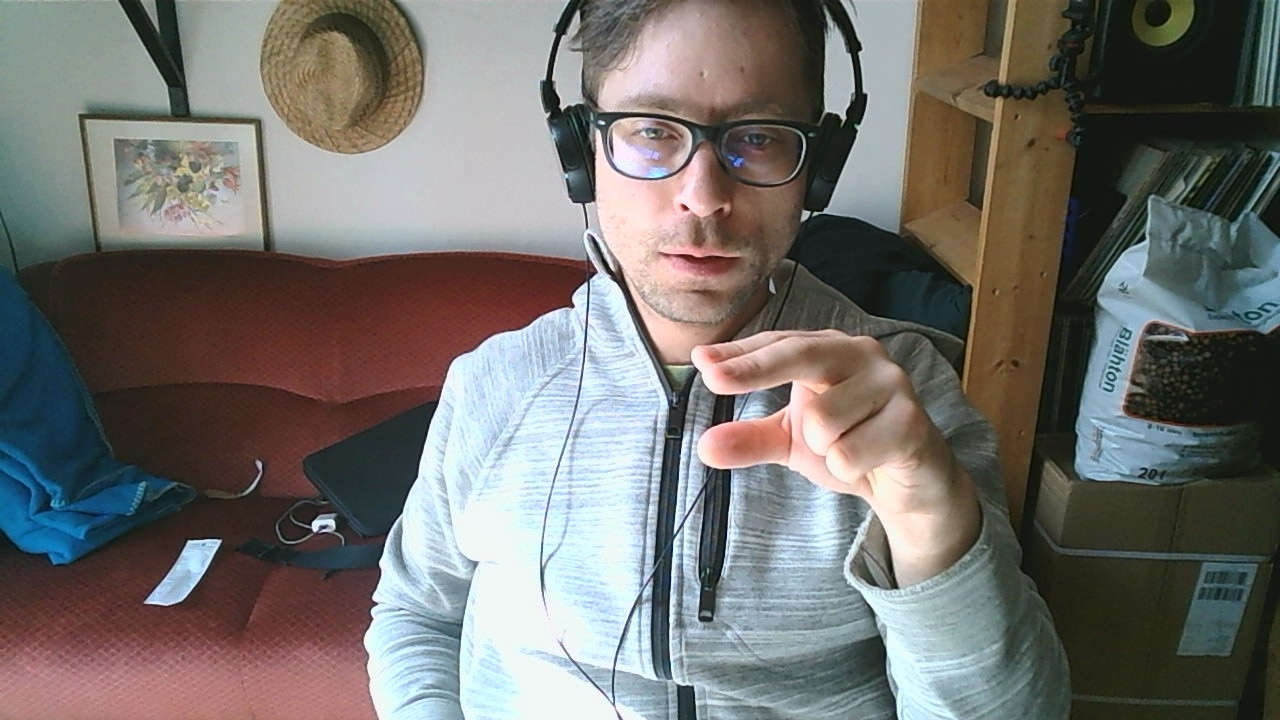no: (687, 328, 943, 503)
